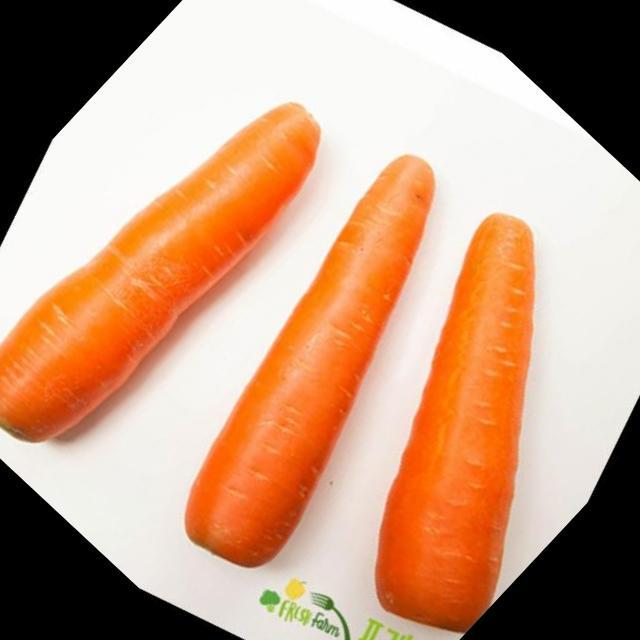carrot: (0, 105, 320, 441), (185, 155, 434, 566), (376, 214, 535, 631)
